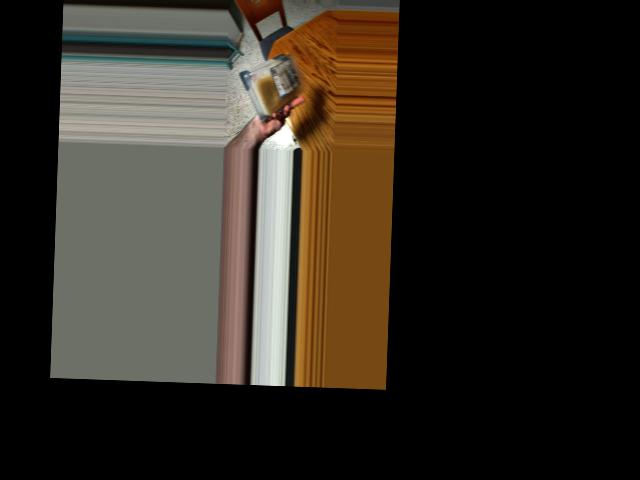cheese: (249, 54, 301, 116)
